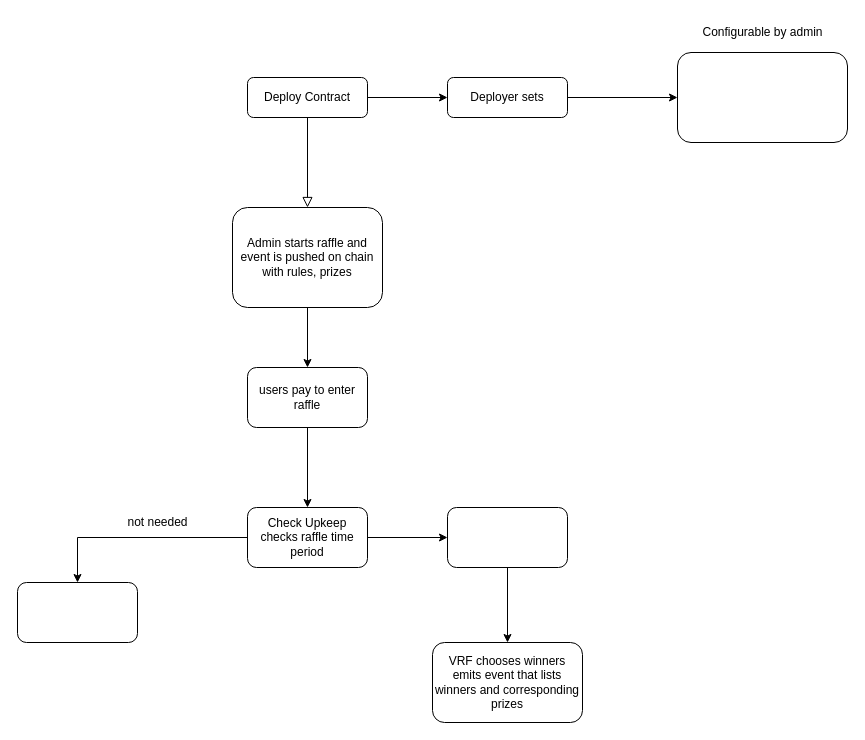
This 865x740 diagram has some shape labels left out. Each missing label, with the centre of its shape:
"Do nothing" goes at point 77,612.
"prizes how many winners time period of entry fees" goes at point 762,97.
"Raffle closes emit event with list of participants" goes at point 507,537.
